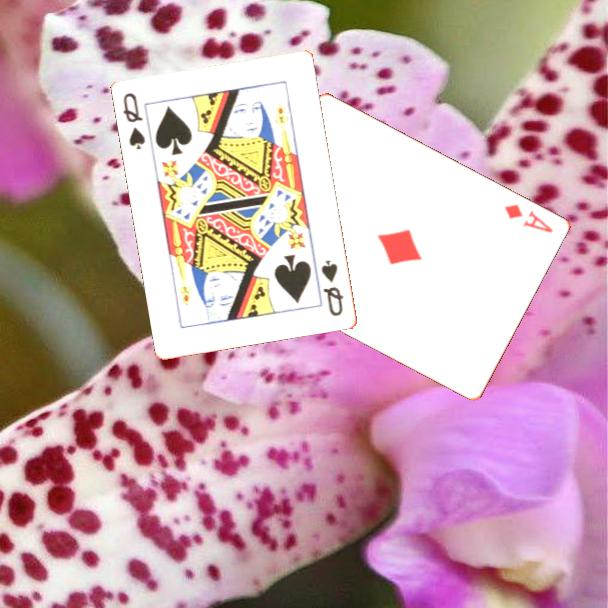d01: (501, 200, 556, 236)
s12: (120, 89, 149, 153), (318, 257, 347, 319)
